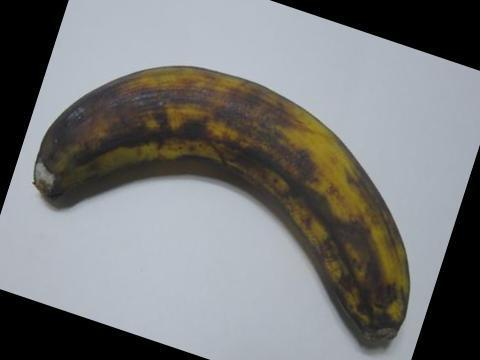overripe: (23, 56, 416, 347)
rotten: (24, 111, 87, 198)
